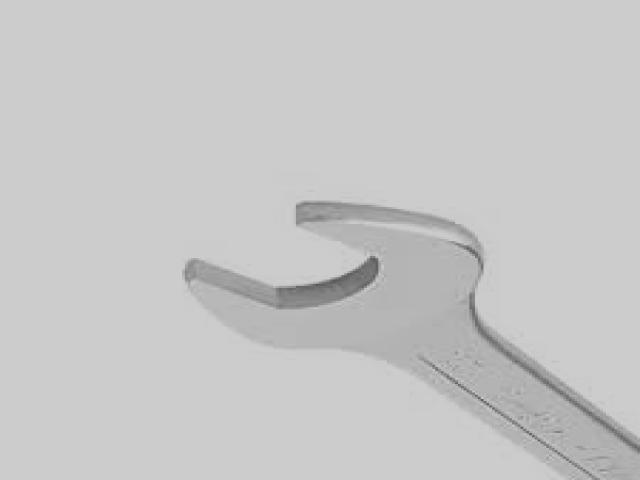Wrench: (185, 204, 640, 480)
